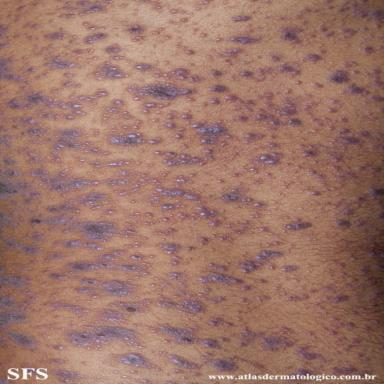lichen: (1, 118, 110, 155), (29, 214, 149, 243), (0, 275, 36, 334), (30, 169, 99, 196), (3, 86, 82, 109), (147, 324, 219, 348), (69, 325, 143, 348), (304, 99, 351, 130), (106, 170, 159, 196), (127, 82, 193, 101), (46, 193, 108, 213), (0, 178, 42, 206), (35, 44, 77, 72), (189, 119, 236, 144), (75, 277, 136, 296), (236, 63, 300, 81), (67, 261, 149, 275), (337, 0, 384, 24), (334, 128, 384, 150), (235, 251, 282, 274), (154, 149, 215, 166), (258, 92, 297, 118), (156, 295, 205, 315), (205, 355, 264, 371), (110, 353, 161, 371), (41, 301, 89, 320), (171, 287, 225, 303), (59, 0, 113, 15), (88, 61, 129, 80), (153, 68, 204, 83), (198, 269, 243, 285), (0, 58, 27, 83), (8, 332, 39, 352), (251, 114, 301, 126), (259, 337, 298, 352), (3, 238, 39, 254), (106, 131, 145, 145), (155, 187, 200, 199), (110, 300, 151, 313), (177, 206, 218, 219), (54, 240, 102, 251), (239, 325, 263, 346), (224, 95, 254, 111), (168, 355, 200, 369), (16, 147, 44, 163), (362, 68, 384, 88), (74, 89, 108, 101), (217, 193, 253, 204), (333, 166, 358, 181), (0, 213, 23, 229), (96, 310, 124, 323), (20, 232, 48, 245), (281, 27, 303, 43), (295, 347, 322, 360), (37, 109, 64, 122), (226, 221, 251, 234), (300, 145, 327, 157), (45, 150, 65, 166), (98, 250, 126, 261), (132, 217, 170, 225), (254, 153, 281, 164), (342, 84, 369, 95), (75, 287, 99, 299), (295, 7, 319, 19), (313, 199, 345, 208), (155, 243, 181, 254), (0, 167, 28, 177), (353, 220, 378, 231), (171, 175, 192, 188), (54, 370, 87, 378), (360, 31, 384, 42), (121, 375, 150, 384), (207, 317, 233, 327), (355, 162, 381, 172), (84, 32, 107, 43), (64, 45, 95, 53), (106, 160, 141, 167), (329, 71, 349, 83), (0, 24, 10, 48), (21, 56, 35, 73), (332, 365, 358, 374), (217, 48, 243, 57), (163, 271, 188, 280), (229, 36, 260, 43), (151, 277, 169, 289), (285, 222, 312, 230), (354, 353, 375, 363), (134, 63, 153, 74), (209, 233, 233, 241), (145, 194, 161, 206), (82, 22, 106, 30), (8, 11, 24, 23), (245, 133, 264, 143), (39, 324, 66, 331), (45, 252, 65, 261), (325, 152, 343, 162), (161, 203, 186, 210), (308, 169, 325, 179), (325, 295, 349, 302), (154, 228, 177, 235), (209, 263, 228, 271), (322, 97, 341, 105), (126, 25, 145, 33), (59, 11, 78, 19), (287, 294, 308, 301), (334, 322, 355, 329), (59, 377, 80, 384), (45, 32, 66, 39), (141, 103, 170, 108), (335, 219, 351, 228), (341, 29, 357, 38), (48, 287, 60, 299), (209, 85, 228, 92), (62, 80, 81, 87), (371, 290, 384, 300), (281, 265, 299, 272), (125, 241, 143, 248), (370, 188, 384, 197), (106, 44, 120, 53), (39, 359, 70, 363), (322, 327, 337, 335), (147, 136, 162, 144), (362, 46, 377, 54), (307, 126, 322, 134), (117, 112, 134, 119), (89, 161, 105, 168), (3, 157, 17, 165), (280, 326, 294, 334), (279, 181, 293, 189), (305, 54, 321, 61), (26, 35, 42, 42), (239, 58, 255, 65), (343, 61, 359, 68), (170, 256, 181, 266), (100, 114, 110, 125), (165, 110, 177, 119), (88, 128, 100, 137), (233, 15, 251, 21), (199, 352, 214, 359), (369, 251, 384, 258), (355, 25, 370, 32), (36, 71, 49, 79), (59, 269, 76, 275), (265, 241, 282, 247), (24, 22, 41, 28), (196, 0, 213, 6), (11, 263, 25, 270), (127, 211, 141, 218), (370, 95, 384, 102), (131, 253, 144, 260), (366, 279, 381, 285), (359, 266, 369, 275), (162, 122, 177, 128), (105, 107, 120, 113), (306, 331, 317, 339), (347, 277, 358, 285), (243, 27, 254, 35), (48, 274, 65, 279), (139, 290, 156, 295), (217, 337, 231, 343), (209, 220, 221, 227), (187, 371, 201, 377), (199, 237, 209, 245), (275, 15, 291, 20), (342, 209, 355, 215), (208, 98, 221, 104), (72, 109, 85, 115), (210, 70, 223, 76), (269, 55, 282, 61), (362, 325, 373, 332), (185, 245, 196, 252), (251, 211, 262, 218), (181, 113, 192, 120), (113, 100, 124, 107), (340, 13, 347, 24), (232, 187, 247, 192), (178, 280, 187, 288), (257, 295, 269, 301), (355, 196, 367, 202), (121, 125, 139, 129), (235, 115, 247, 121), (69, 35, 78, 43), (175, 43, 187, 49), (294, 163, 303, 171), (10, 210, 24, 215), (108, 125, 118, 132), (317, 25, 327, 32), (0, 341, 10, 348), (170, 9, 187, 13), (240, 285, 251, 291), (132, 36, 143, 42), (301, 93, 312, 99), (324, 31, 335, 37), (139, 262, 152, 267), (267, 142, 280, 147), (61, 114, 74, 119), (111, 55, 124, 60), (151, 0, 164, 5), (229, 73, 237, 81), (135, 0, 151, 4), (351, 337, 361, 343), (323, 286, 335, 291), (306, 289, 318, 294), (52, 345, 64, 350), (249, 167, 259, 173), (252, 179, 264, 184), (262, 127, 277, 131), (51, 88, 63, 93), (81, 61, 96, 65), (152, 5, 162, 11), (317, 49, 327, 55), (53, 314, 65, 319), (377, 211, 384, 219), (192, 27, 199, 35), (254, 202, 265, 207), (264, 173, 275, 178), (313, 83, 324, 88), (185, 50, 196, 55), (172, 368, 183, 373), (0, 265, 6, 274), (240, 297, 249, 303), (180, 143, 189, 149), (17, 5, 26, 11), (307, 32, 316, 38), (106, 209, 116, 214), (173, 133, 183, 138), (327, 108, 337, 113), (64, 73, 74, 78), (13, 34, 23, 39), (145, 212, 153, 218), (161, 171, 169, 177), (28, 260, 37, 265), (336, 263, 345, 268), (178, 127, 187, 132), (267, 135, 276, 140), (187, 97, 196, 102), (263, 14, 272, 19), (163, 381, 178, 384), (195, 200, 206, 204), (150, 31, 161, 35), (311, 191, 321, 195), (232, 173, 242, 177), (135, 120, 143, 125), (91, 55, 99, 60), (162, 60, 170, 65), (295, 80, 303, 85), (326, 5, 334, 10), (215, 37, 223, 42), (330, 317, 340, 321), (51, 308, 59, 313), (31, 310, 44, 313), (258, 279, 267, 283), (260, 227, 269, 231), (145, 163, 154, 167), (226, 59, 232, 65), (39, 333, 48, 337), (305, 186, 314, 190), (294, 217, 301, 222), (221, 141, 228, 146), (206, 55, 213, 60), (301, 20, 308, 25), (217, 179, 225, 183), (142, 109, 150, 113), (200, 103, 208, 107), (163, 35, 171, 39), (180, 18, 188, 22), (285, 89, 293, 93), (69, 323, 77, 327), (126, 278, 134, 282), (375, 24, 381, 29), (152, 118, 159, 122), (155, 110, 162, 114), (78, 158, 85, 162), (129, 199, 136, 203), (201, 183, 208, 187), (174, 199, 181, 203), (200, 33, 207, 37), (120, 20, 127, 24), (81, 361, 88, 365), (324, 0, 333, 3), (133, 275, 142, 278), (34, 43, 39, 48), (77, 55, 82, 60), (189, 173, 195, 177), (72, 155, 80, 158), (120, 4, 128, 7), (352, 71, 360, 74), (208, 48, 216, 51), (255, 55, 261, 59), (129, 370, 137, 373), (180, 376, 188, 379), (138, 149, 145, 152), (157, 28, 164, 31), (278, 193, 285, 196), (124, 274, 131, 277), (149, 255, 156, 258), (33, 3, 38, 7), (170, 20, 175, 24), (196, 7, 201, 11), (114, 199, 119, 203), (43, 270, 49, 273), (235, 205, 241, 208), (237, 182, 243, 185), (331, 17, 335, 21), (221, 217, 226, 220), (206, 195, 211, 198), (94, 170, 99, 173), (134, 296, 139, 299), (136, 284, 141, 287), (221, 209, 225, 212), (60, 28, 64, 31), (114, 34, 118, 37), (223, 2, 227, 5), (134, 8, 138, 11), (135, 288, 139, 291), (250, 11, 255, 13), (113, 29, 118, 31), (162, 239, 167, 241), (179, 1, 183, 3), (250, 0, 254, 2), (190, 12, 193, 14)
